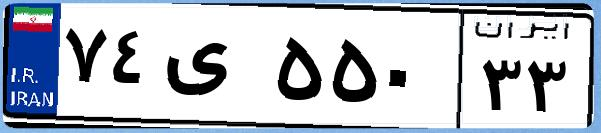0: (385, 28, 445, 110)
3: (475, 38, 525, 113), (525, 38, 570, 115)
4: (110, 28, 158, 98)
5: (270, 28, 330, 110), (330, 28, 385, 110)
7: (57, 26, 110, 100)
ی: (158, 20, 270, 120)
